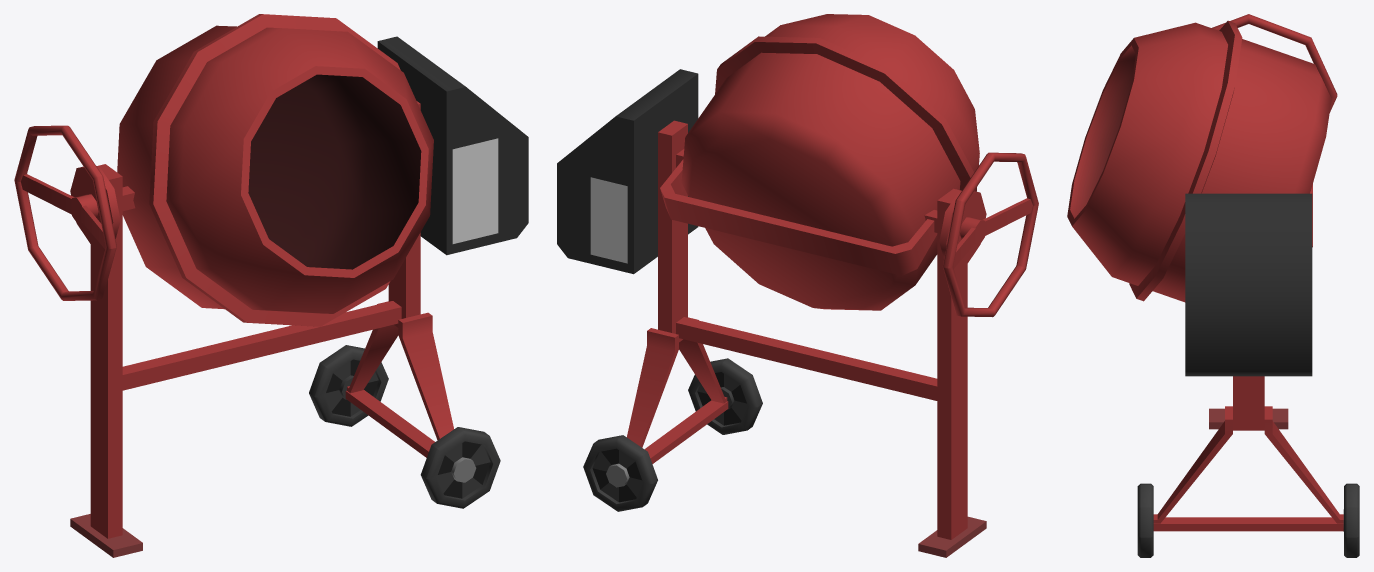
The model's file is CementMixer.fbx.
3 renders of one model, left to right at view 1: azimuth 30°, elevation 25°; view 2: azimuth 150°, elevation 25°; view 3: azimuth 270°, elevation 25°, orthographic. The views are drawn at different scales.
Visible parts, largest first — view 1: isl_Cement_Mixer_01_DEF.obj; view 2: isl_Cement_Mixer_01_DEF.obj; view 3: isl_Cement_Mixer_01_DEF.obj.
Part boxes in pixels (x1,y1,x2,y2): isl_Cement_Mixer_01_DEF.obj: (14, 14, 528, 557); isl_Cement_Mixer_01_DEF.obj: (557, 14, 1038, 557); isl_Cement_Mixer_01_DEF.obj: (1067, 14, 1359, 557).
Size of the model in its own units: 167 by 182 by 106.
